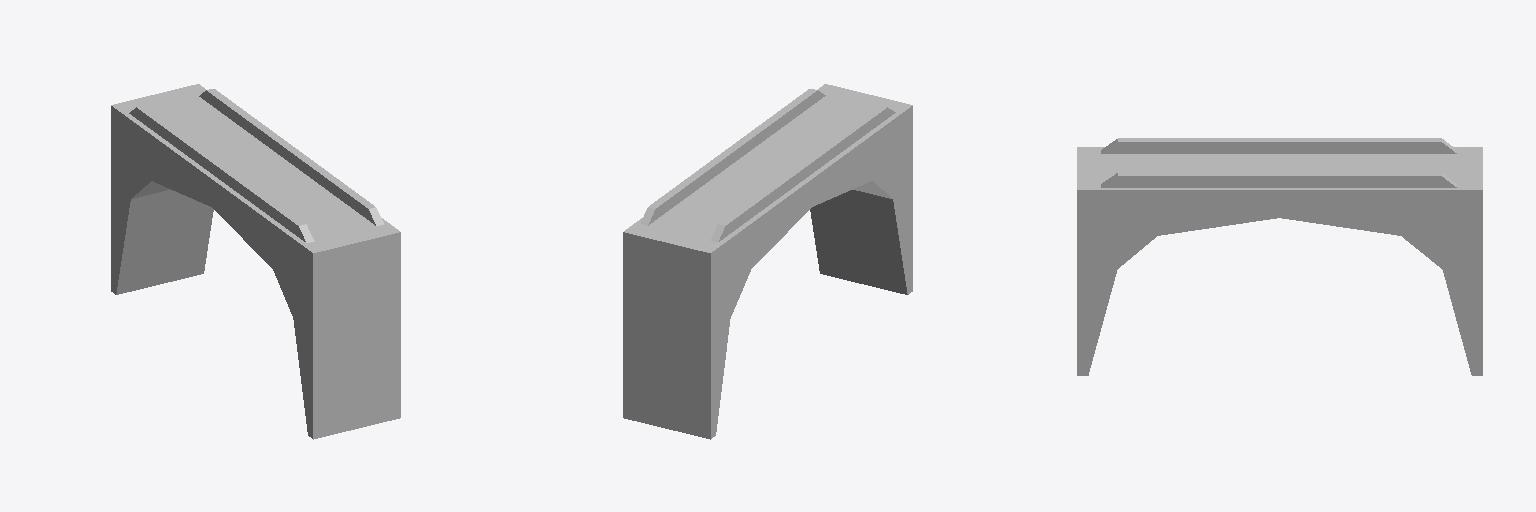
Rendered from bridge.obj.
3 views of the same model, side by side, from view 1: azimuth 30°, elevation 25°; view 2: azimuth 150°, elevation 25°; view 3: azimuth 270°, elevation 25° (orthographic).
Parts seen in each view (by area): view 1: bridge; view 2: bridge; view 3: bridge.
Boxes of the visible parts, <box> form: bridge: <box>111,84,400,439</box>; bridge: <box>623,84,912,439</box>; bridge: <box>1077,138,1482,375</box>.
Bounding box in the file's own units: 1.23 × 2.63 × 4.9.